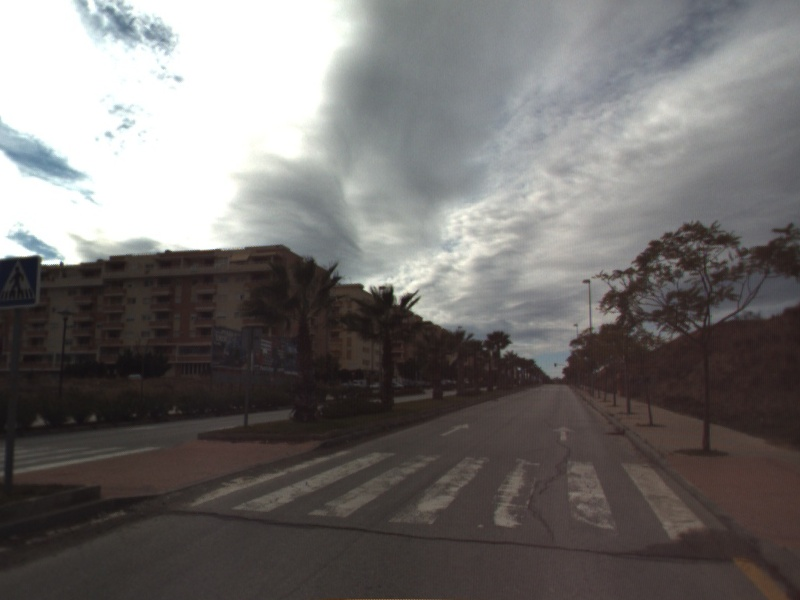STRAIGHT: (438, 421, 471, 438), (551, 423, 578, 442)
